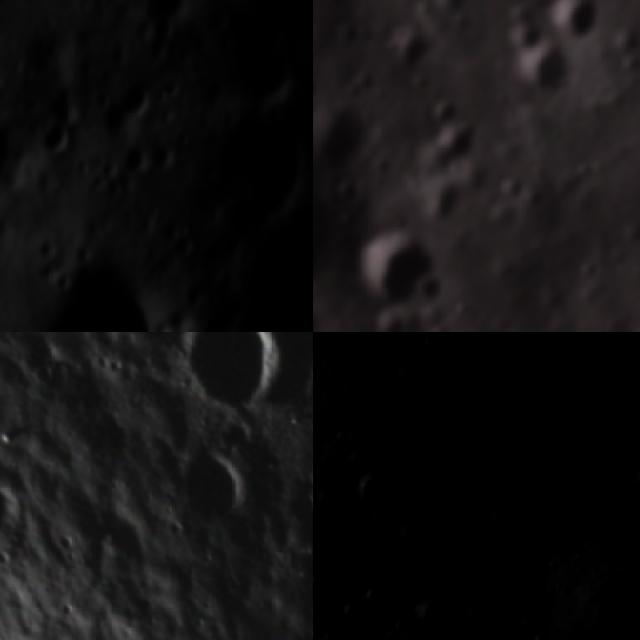crater: (180, 95, 313, 257), (176, 332, 293, 421), (28, 270, 182, 332), (165, 449, 259, 544), (342, 236, 438, 311), (34, 80, 91, 174), (313, 107, 367, 181), (512, 50, 571, 104), (539, 0, 598, 49), (381, 31, 436, 79), (419, 178, 465, 234), (313, 191, 336, 295), (0, 473, 30, 549), (114, 77, 157, 128), (354, 476, 399, 518), (0, 95, 17, 198), (143, 0, 200, 30), (402, 412, 439, 447), (394, 520, 427, 554), (410, 602, 446, 628), (313, 568, 341, 601), (343, 448, 370, 477), (372, 510, 394, 540), (334, 602, 365, 623), (434, 539, 456, 565), (421, 565, 448, 586), (313, 487, 334, 511), (504, 439, 525, 463), (568, 462, 590, 483), (633, 468, 640, 505), (313, 633, 349, 640), (530, 632, 548, 640)
